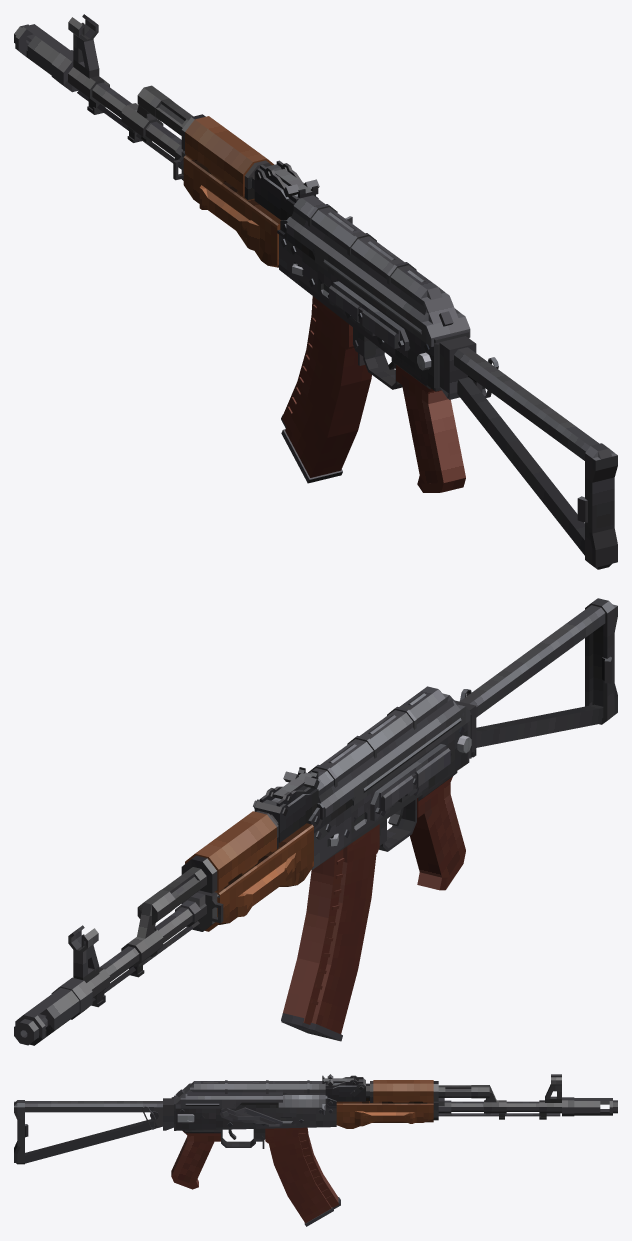
The picture shows the model from 3 angles, top to bottom: view 1: azimuth 30°, elevation 25°; view 2: azimuth 150°, elevation 25°; view 3: azimuth 270°, elevation 25°; orthographic projection. The views are drawn at different scales.
Parts seen in each view (by area): view 1: cube (×25); view 2: cube (×26), octagon; view 3: cube (×31), octagon (×2), a really fucking big stick.
Part boxes in pixels (bbox=[...]): cube (×25): bbox=[185, 116, 610, 564]; cube (×26): bbox=[185, 605, 614, 1034]; octagon: bbox=[105, 894, 218, 975]; cube (×31): bbox=[17, 1080, 433, 1223]; octagon (×2): bbox=[451, 1103, 539, 1110]; a really fucking big stick: bbox=[438, 1113, 560, 1116].
Size of the model in its own units: 0.2019 by 0.756 by 2.82.
Materials: 1 (1 with a texture image).
